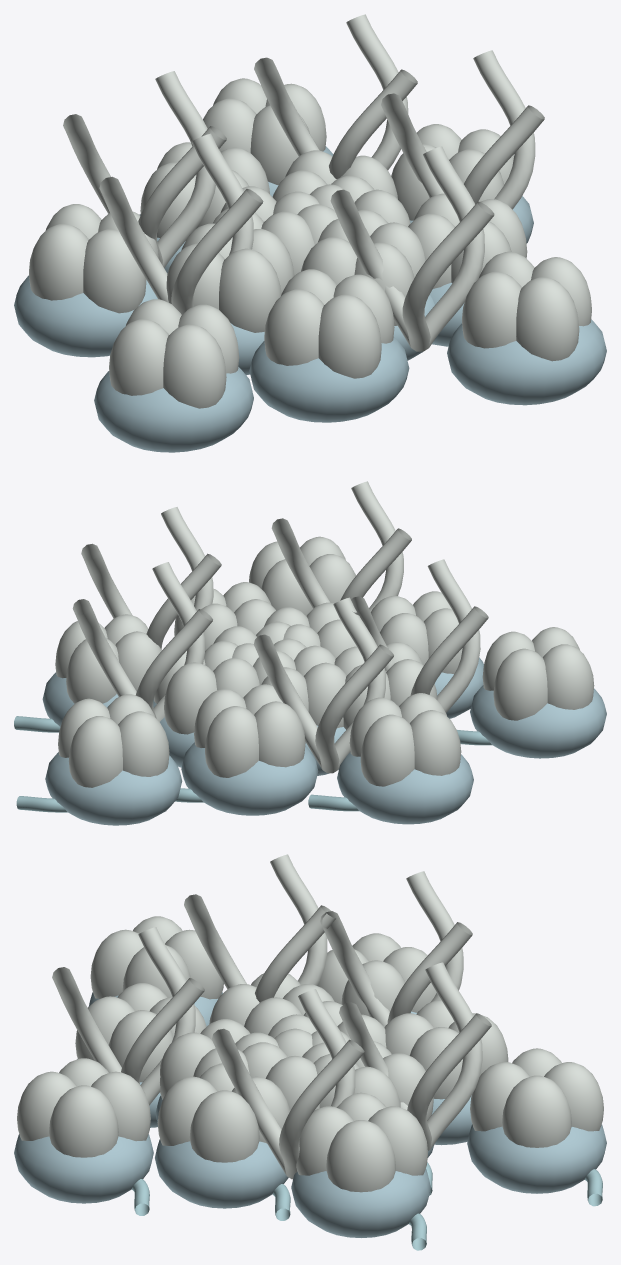
The model's file is bio_oxygen_reef_19_near.glb.
3 renders of one model, top to bottom at view 1: azimuth 30°, elevation 25°; view 2: azimuth 150°, elevation 25°; view 3: azimuth 270°, elevation 25°, orthographic. The views are drawn at different scales.
Parts seen in each view (by area): view 1: Lobed gas sac.028, Lobed gas sac.048, Lobed gas sac.040, Spiral filament.006, Lobed gas sac.036, Spiral filament.012, Photosynthetic cushion.007, Photosynthetic cushion.012, Photosynthetic cushion.010, Spiral filament.003, Spiral filament, Lobed gas sac.016 (+12 smaller); view 2: Lobed gas sac.036, Lobed gas sac.048, Lobed gas sac.044, Lobed gas sac.024, Spiral filament.003, Spiral filament.009, Photosynthetic cushion.012, Photosynthetic cushion.011, Photosynthetic cushion.006, Photosynthetic cushion.009, Lobed gas sac.032, Spiral filament.006 (+16 smaller); view 3: Lobed gas sac.040, Lobed gas sac.044, Lobed gas sac.032, Lobed gas sac.020, Spiral filament, Spiral filament.009, Spiral filament.006, Spiral filament.012, Photosynthetic cushion.011, Photosynthetic cushion.010, Photosynthetic cushion.008, Spiral filament.003 (+15 smaller).
Part boxes in pixels (left/top/right/bottom): Lobed gas sac.028: left=264, top=269, right=394, bottom=378; Lobed gas sac.048: left=109, top=299, right=239, bottom=408; Lobed gas sac.040: left=462, top=251, right=591, bottom=361; Spiral filament.006: left=330, top=146, right=494, bottom=351; Lobed gas sac.036: left=29, top=204, right=158, bottom=313; Spiral filament.012: left=99, top=133, right=263, bottom=314; Photosynthetic cushion.007: left=249, top=337, right=409, bottom=422; Photosynthetic cushion.012: left=94, top=367, right=253, bottom=452; Photosynthetic cushion.010: left=447, top=319, right=606, bottom=405; Spiral filament.003: left=63, top=71, right=226, bottom=267; Spiral filament: left=381, top=50, right=544, bottom=209; Lobed gas sac.016: left=166, top=223, right=294, bottom=332; Lobed gas sac.036: left=349, top=693, right=461, bottom=786; Lobed gas sac.048: left=482, top=627, right=594, bottom=720; Lobed gas sac.044: left=58, top=694, right=169, bottom=787; Lobed gas sac.024: left=194, top=684, right=305, bottom=777; Spiral filament.003: left=253, top=597, right=393, bottom=773; Spiral filament.009: left=72, top=562, right=212, bottom=721; Photosynthetic cushion.012: left=470, top=685, right=606, bottom=758; Photosynthetic cushion.011: left=45, top=752, right=182, bottom=825; Photosynthetic cushion.006: left=181, top=742, right=318, bottom=815; Photosynthetic cushion.009: left=337, top=752, right=473, bottom=824; Lobed gas sac.032: left=55, top=614, right=161, bottom=703; Spiral filament.006: left=271, top=481, right=411, bottom=611; Lobed gas sac.040: left=17, top=1058, right=150, bottom=1157; Lobed gas sac.044: left=470, top=1048, right=603, bottom=1147; Lobed gas sac.032: left=296, top=1092, right=427, bottom=1192; Lobed gas sac.020: left=157, top=1063, right=289, bottom=1162; Spiral filament: left=212, top=989, right=364, bottom=1179; Spiral filament.009: left=339, top=962, right=491, bottom=1150; Spiral filament.006: left=52, top=927, right=204, bottom=1105; Spiral filament.012: left=184, top=854, right=335, bottom=1002; Photosynthetic cushion.011: left=467, top=1124, right=606, bottom=1193; Photosynthetic cushion.010: left=14, top=1134, right=153, bottom=1203; Photosynthetic cushion.008: left=291, top=1169, right=430, bottom=1237; Spiral filament.003: left=320, top=871, right=472, bottom=1026.
Size of the model in its own units: 1.99 by 0.7514 by 2.03.
